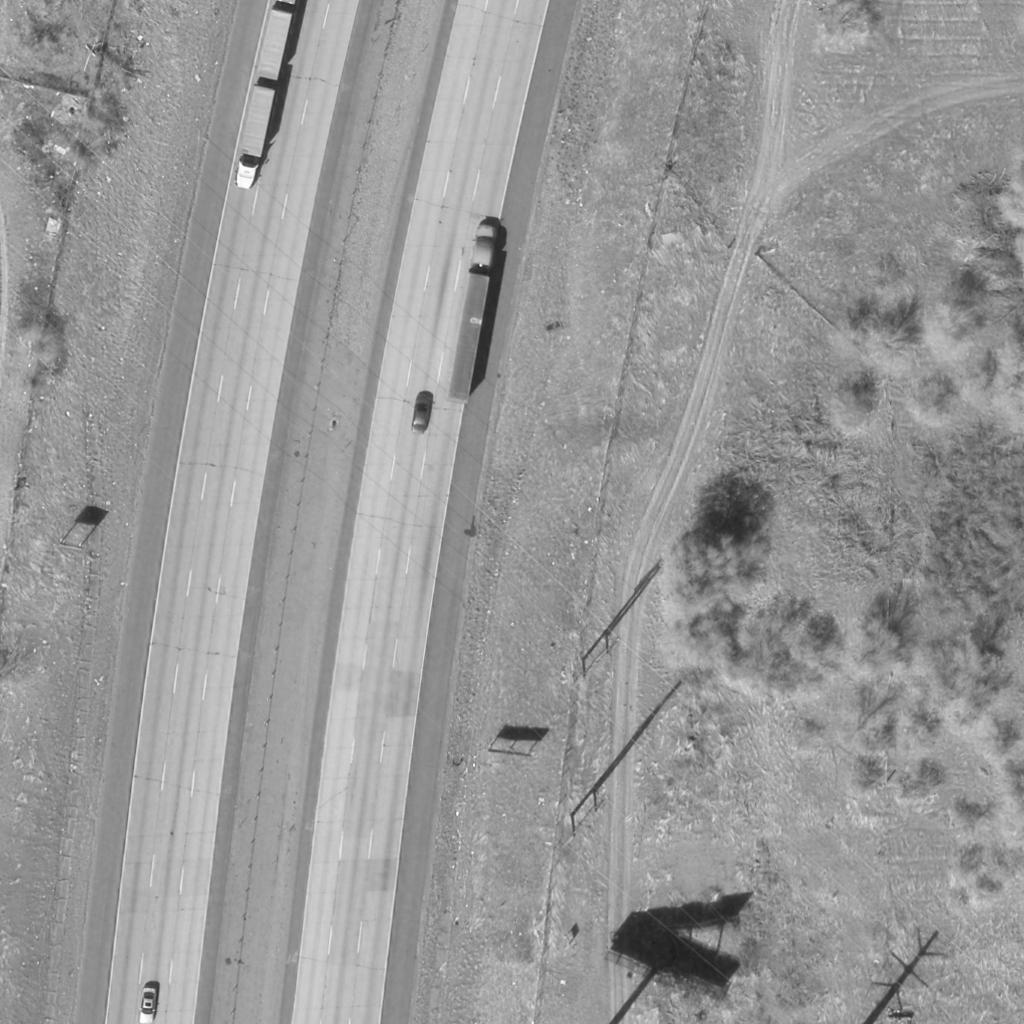vehicle: (448, 222, 500, 406), (231, 82, 279, 192), (408, 391, 434, 435), (140, 988, 158, 1024)
